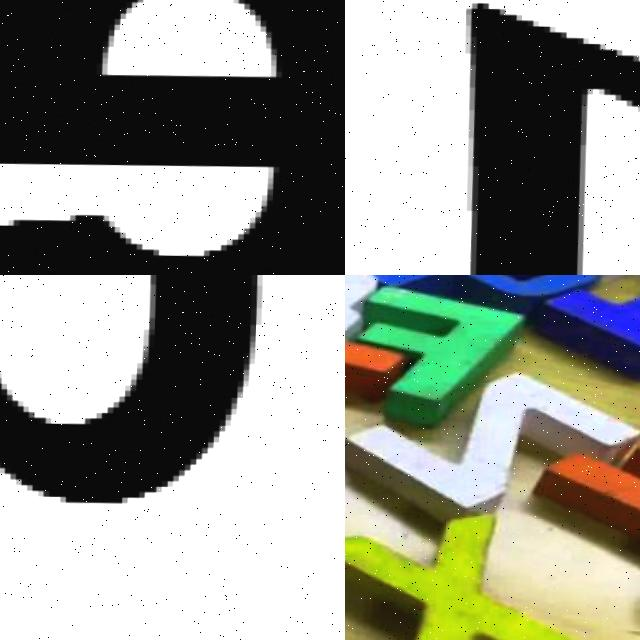1: (355, 0, 640, 275)
E: (0, 0, 345, 275)
F: (350, 286, 534, 407)
Q: (0, 275, 282, 640)
X: (345, 506, 590, 640)
Z: (345, 361, 629, 517)
